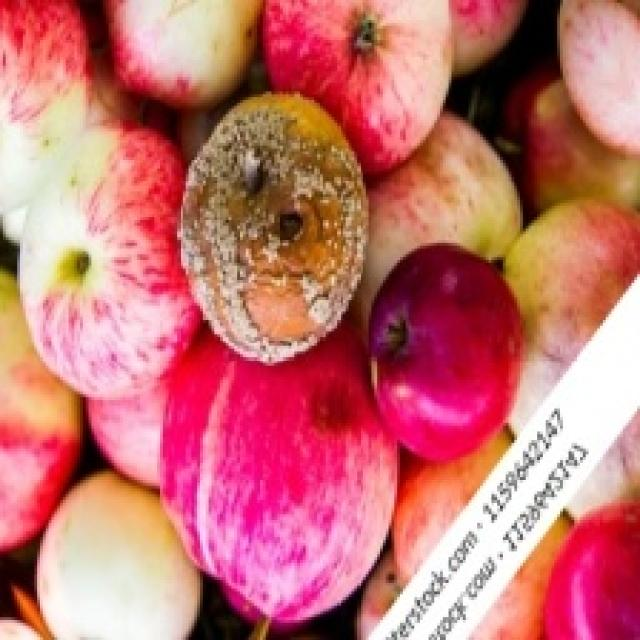rotten_apple: (182, 94, 366, 356)
